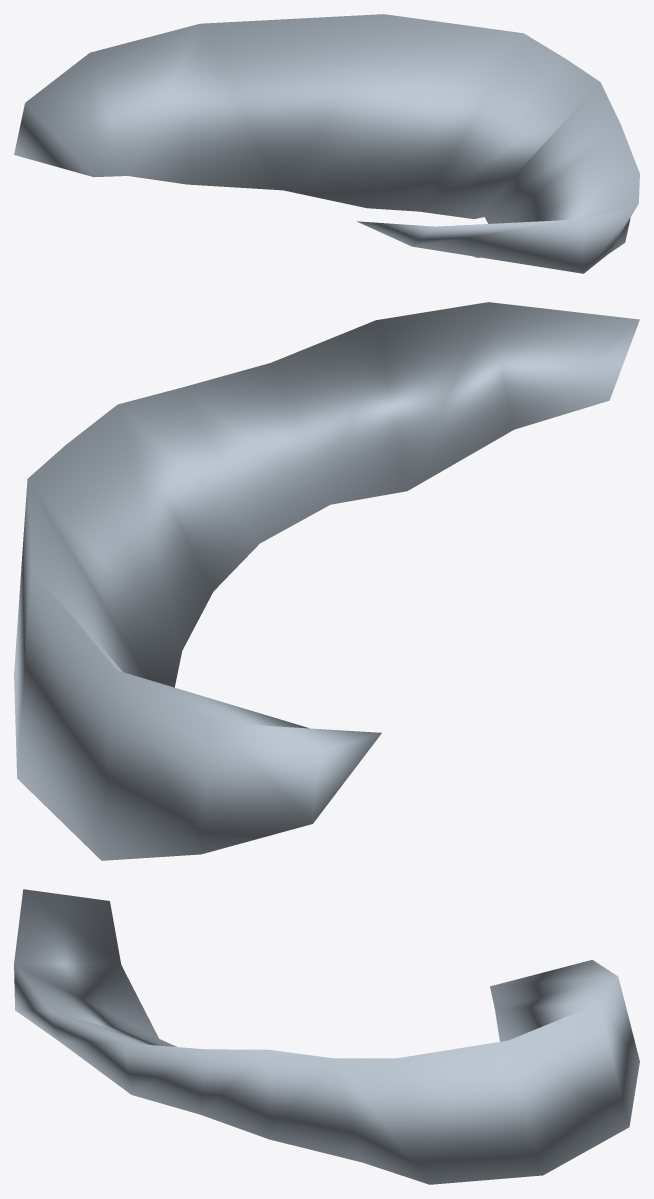
The model's file is medial-meniscus-r.glb.
3 renders of one model, top to bottom at view 1: azimuth 30°, elevation 25°; view 2: azimuth 150°, elevation 25°; view 3: azimuth 270°, elevation 25°, orthographic. The views are drawn at different scales.
Visible parts, largest first — view 1: Medial meniscus.r; view 2: Medial meniscus.r; view 3: Medial meniscus.r.
Boxes of the visible parts, x1,y1,x2,y2 form: Medial meniscus.r: [14, 14, 639, 273]; Medial meniscus.r: [14, 302, 639, 860]; Medial meniscus.r: [14, 889, 639, 1184].
Size of the model in its own units: 0.0266 by 0.0157 by 0.0458.
